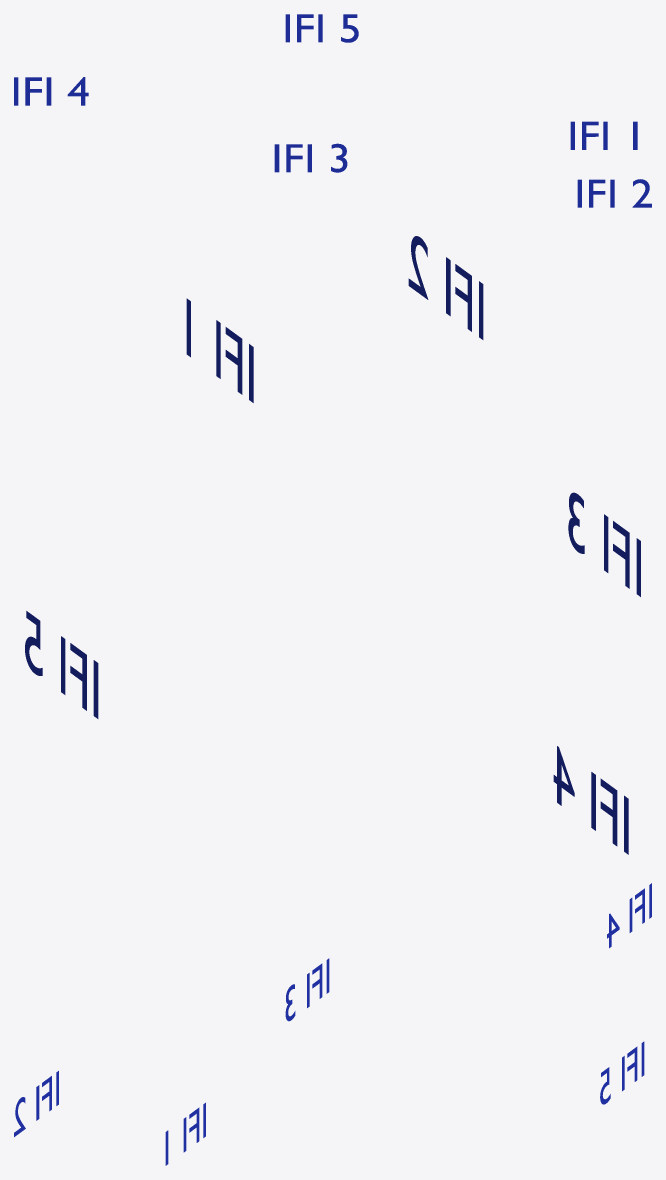
File: InstitutoFisiologia.gltf
The picture shows the model from 3 angles, top to bottom: view 1: azimuth 30°, elevation 25°; view 2: azimuth 150°, elevation 25°; view 3: azimuth 270°, elevation 25°; orthographic projection. The views are drawn at different scales.
Visible parts, largest first — view 1: Text, Text.007, Text.006, Text.009, Text.008; view 2: Text.006, Text, Text.009, Text.007, Text.008; view 3: Text.006, Text.007, Text.009, Text, Text.008.
Part boxes in pixels (box(x1,y1,x2,y2)): Text: box(14, 77, 88, 105); Text.007: box(274, 143, 347, 172); Text.006: box(285, 14, 358, 42); Text.009: box(577, 179, 651, 207); Text.008: box(570, 121, 637, 149); Text.006: box(25, 611, 98, 718); Text: box(553, 746, 628, 854); Text.009: box(408, 236, 483, 339); Text.007: box(568, 492, 640, 596); Text.008: box(186, 298, 253, 402); Text.006: box(600, 1041, 644, 1104); Text.007: box(285, 958, 329, 1021); Text.009: box(14, 1071, 58, 1136); Text: box(607, 883, 651, 948); Text.008: box(165, 1102, 205, 1165).
Bounding box in the file's own units: 3.39 × 0.2213 × 3.67.
